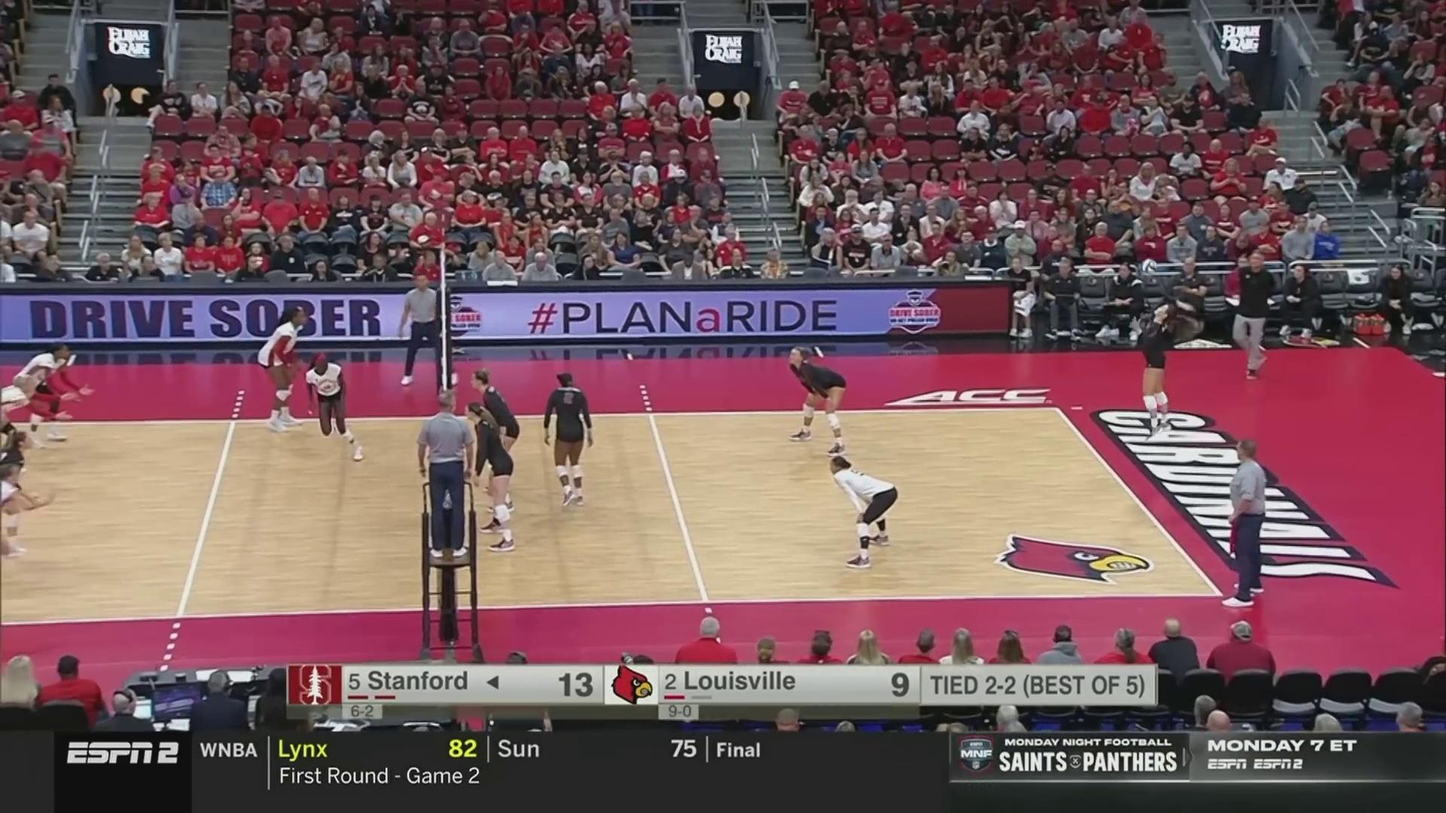player: (1135, 298, 1197, 439), (830, 452, 899, 569), (16, 342, 91, 445), (466, 399, 516, 546), (542, 375, 598, 506), (304, 352, 369, 464), (0, 378, 76, 472), (471, 372, 522, 511), (257, 313, 308, 431), (784, 350, 847, 445), (0, 431, 35, 521), (0, 461, 29, 557)
refree: (422, 392, 471, 558), (1225, 438, 1269, 610), (399, 274, 445, 388)
